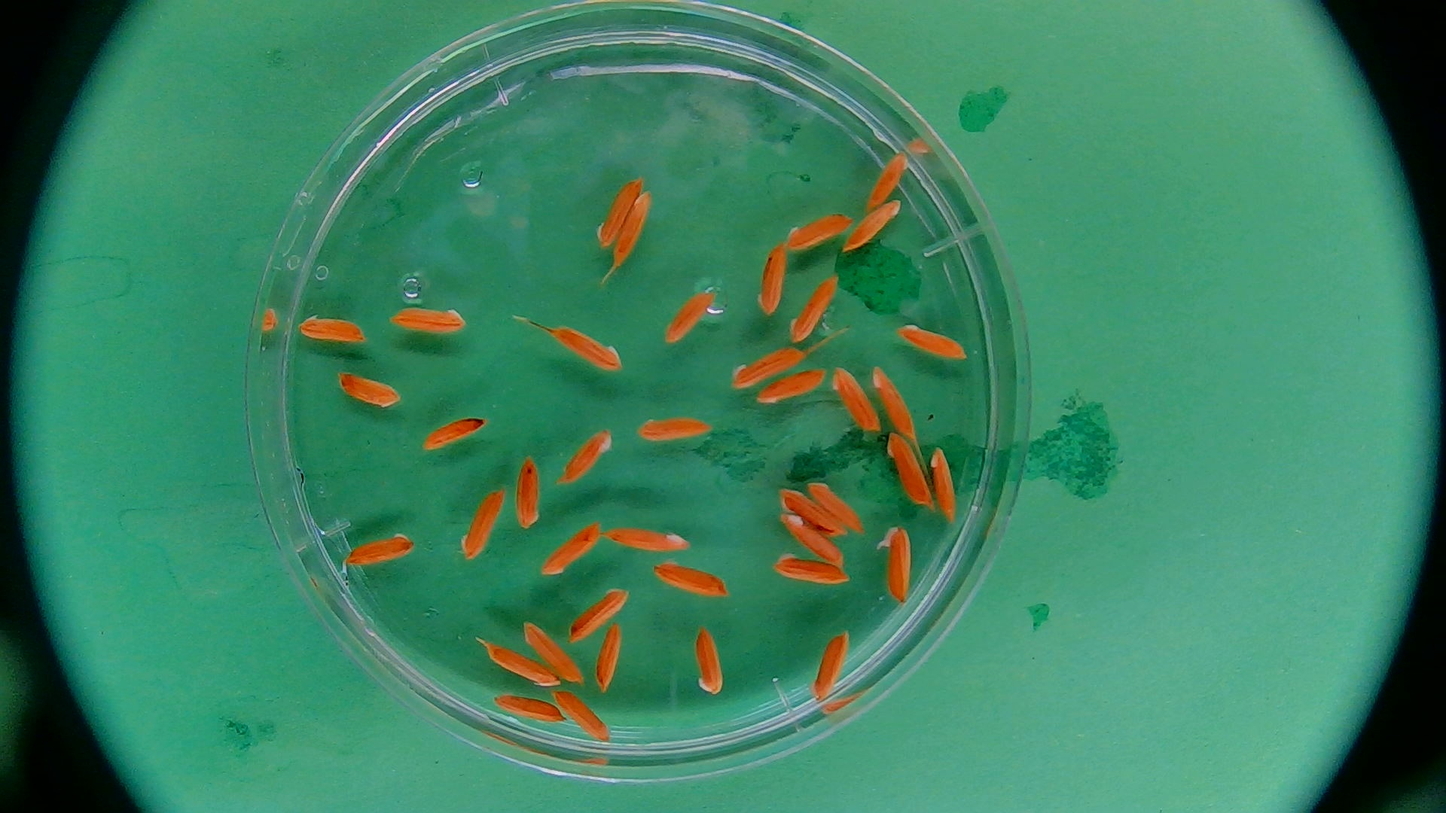no: (514, 613, 588, 688), (880, 424, 936, 515), (776, 506, 852, 571), (647, 553, 737, 607), (454, 484, 510, 562), (595, 172, 645, 259), (840, 191, 905, 257), (531, 520, 604, 578), (789, 271, 844, 347), (868, 362, 918, 443), (655, 282, 716, 348), (826, 364, 882, 435), (546, 687, 613, 744), (776, 484, 848, 537), (895, 316, 972, 365), (804, 627, 854, 702), (594, 525, 700, 560), (555, 425, 615, 486), (779, 208, 857, 254), (761, 548, 853, 587), (553, 322, 622, 373), (563, 589, 630, 641), (488, 644, 565, 688), (924, 440, 962, 528), (807, 477, 866, 533), (297, 306, 372, 349), (688, 625, 731, 698), (753, 241, 792, 318), (508, 456, 548, 531), (871, 143, 911, 218), (614, 189, 650, 271), (345, 528, 419, 567), (732, 348, 799, 391), (389, 300, 471, 334), (638, 415, 721, 447), (335, 373, 404, 411), (421, 413, 487, 451), (492, 693, 565, 726), (594, 625, 627, 696)
yes: (880, 524, 912, 607)
